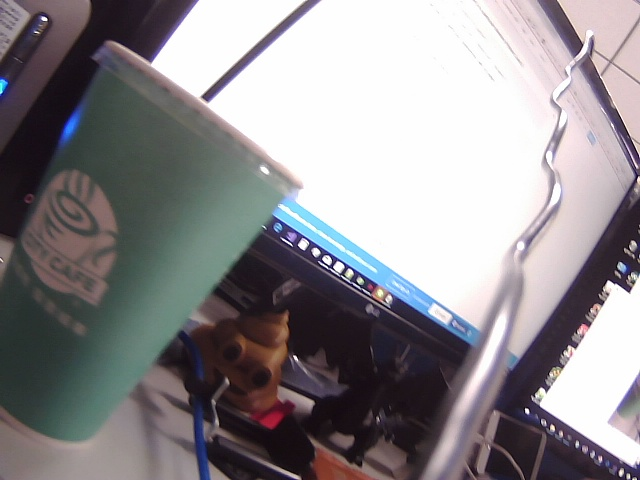beverage: (7, 1, 322, 461)
